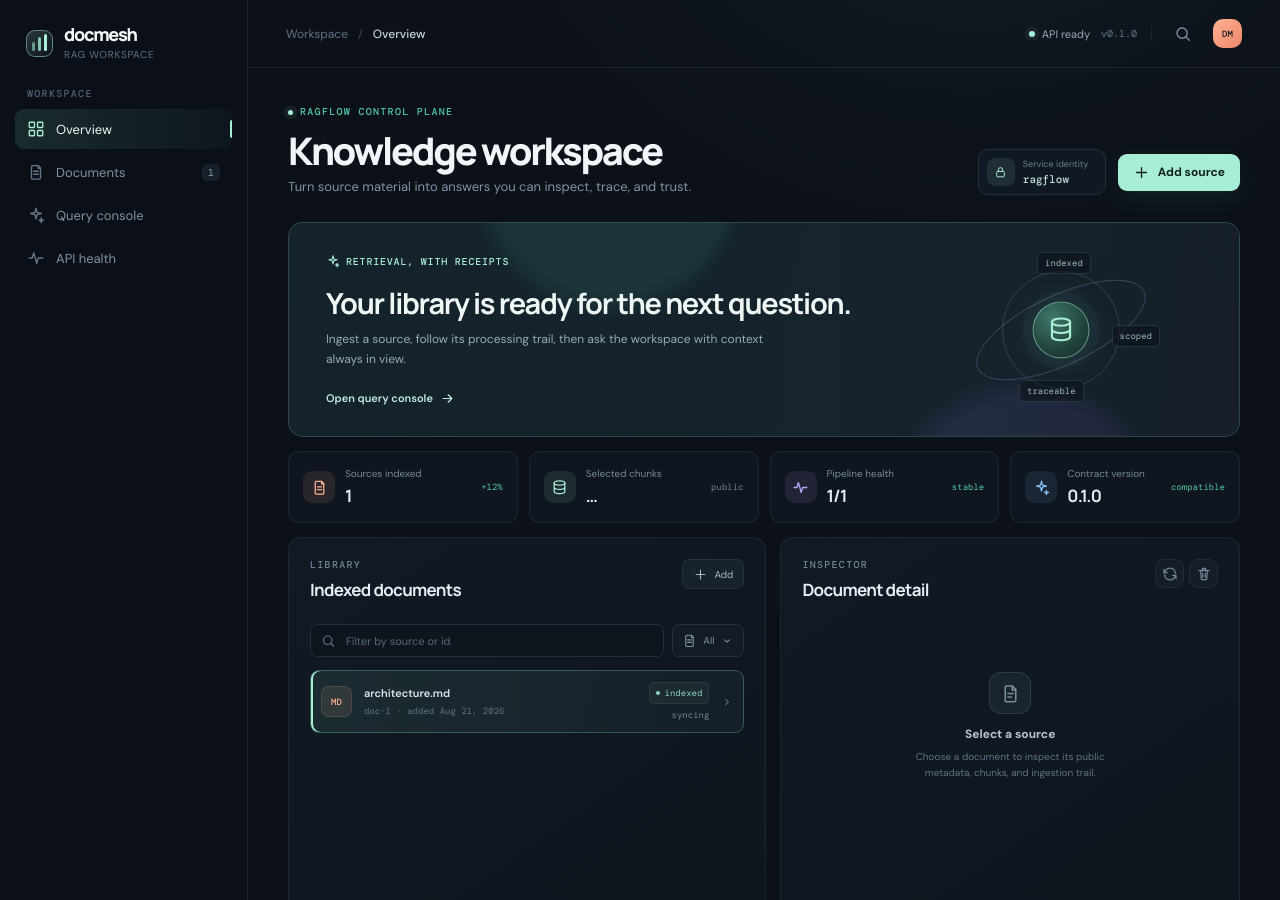
it: RAG Flow API-11 lifecycle capability › uses the ingestion job id for the final step status map
Expected: the text "architecture.md" is shown, [364,686,450,700]
Click the button "Add source".
click(1179, 172)  # box [1118,154,1240,190]
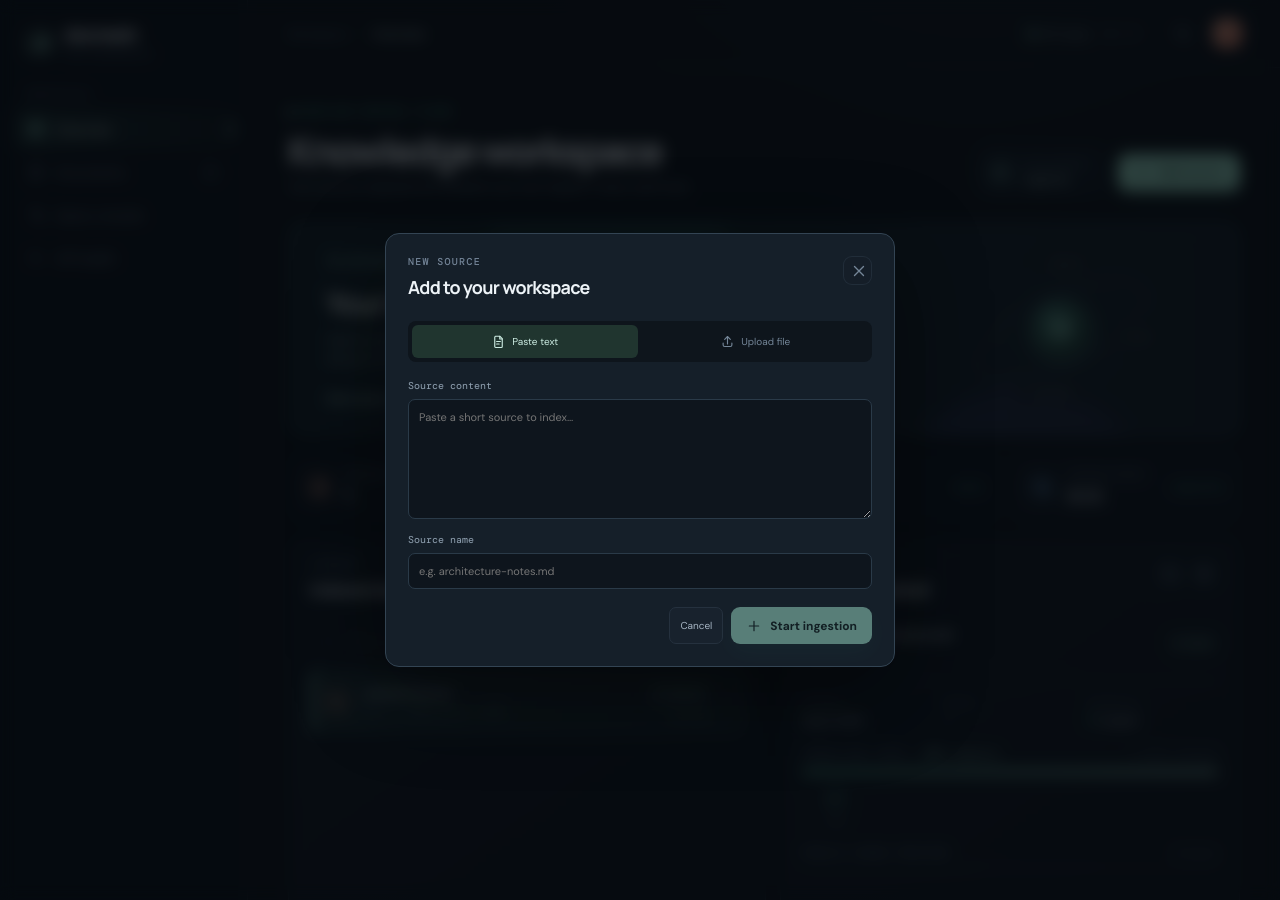
Type "New notes" into the text box labelled "Source content".
click(640, 459); type("New notes")  # box [408,399,872,519]
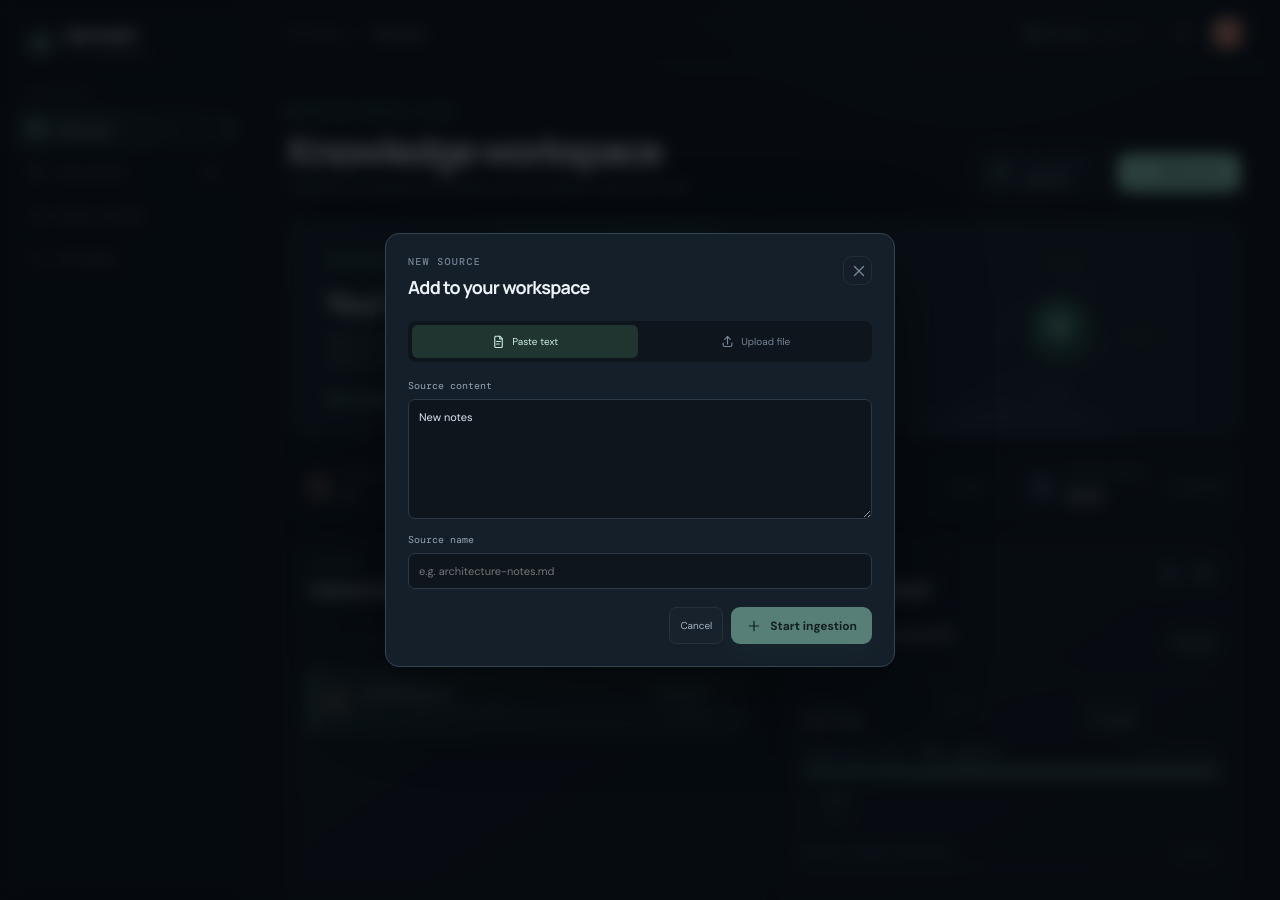
Type "notes.md" into the field labelled "Source name".
click(640, 571); type("notes.md")  # box [408,553,872,589]
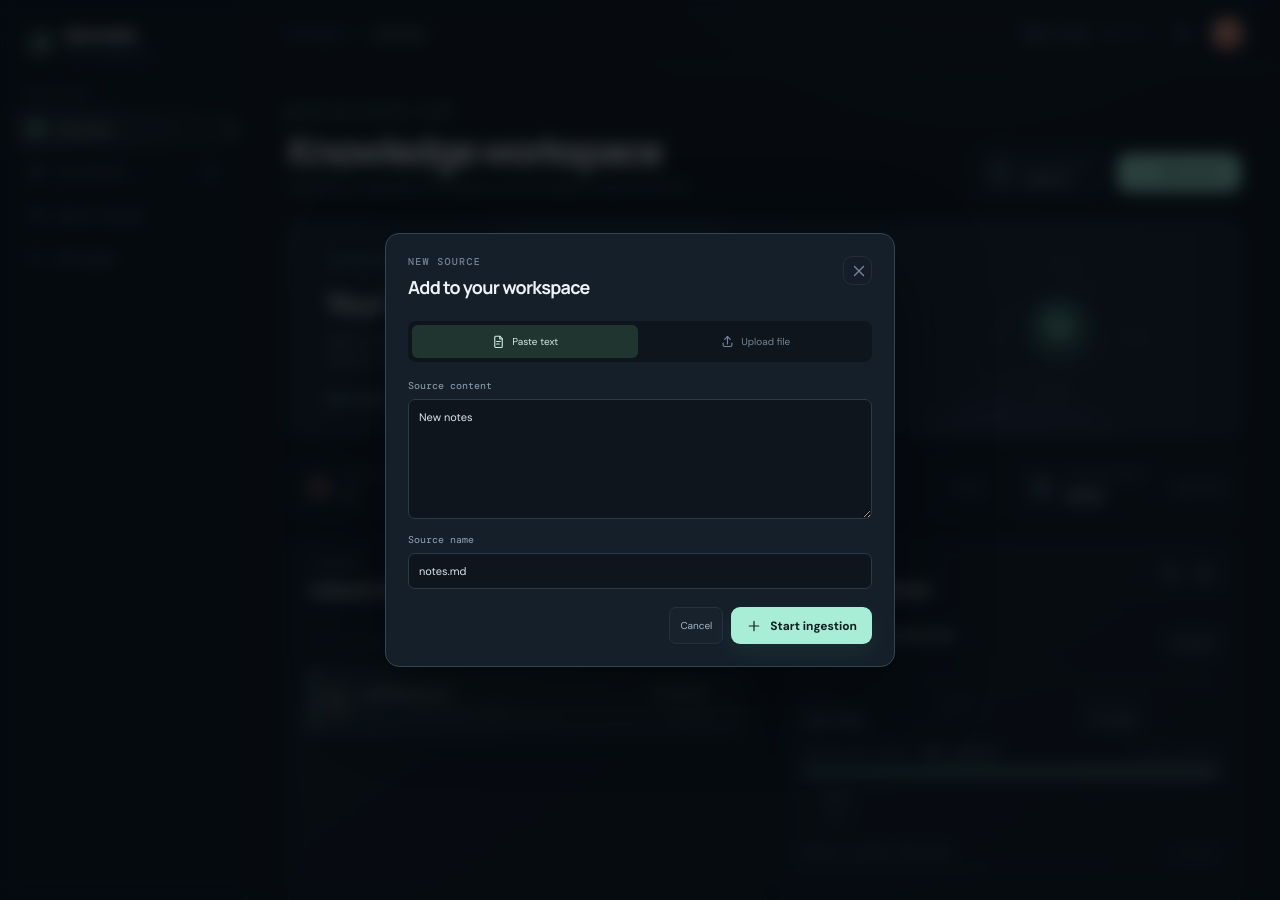
Submit the form, box [408,379,872,644]
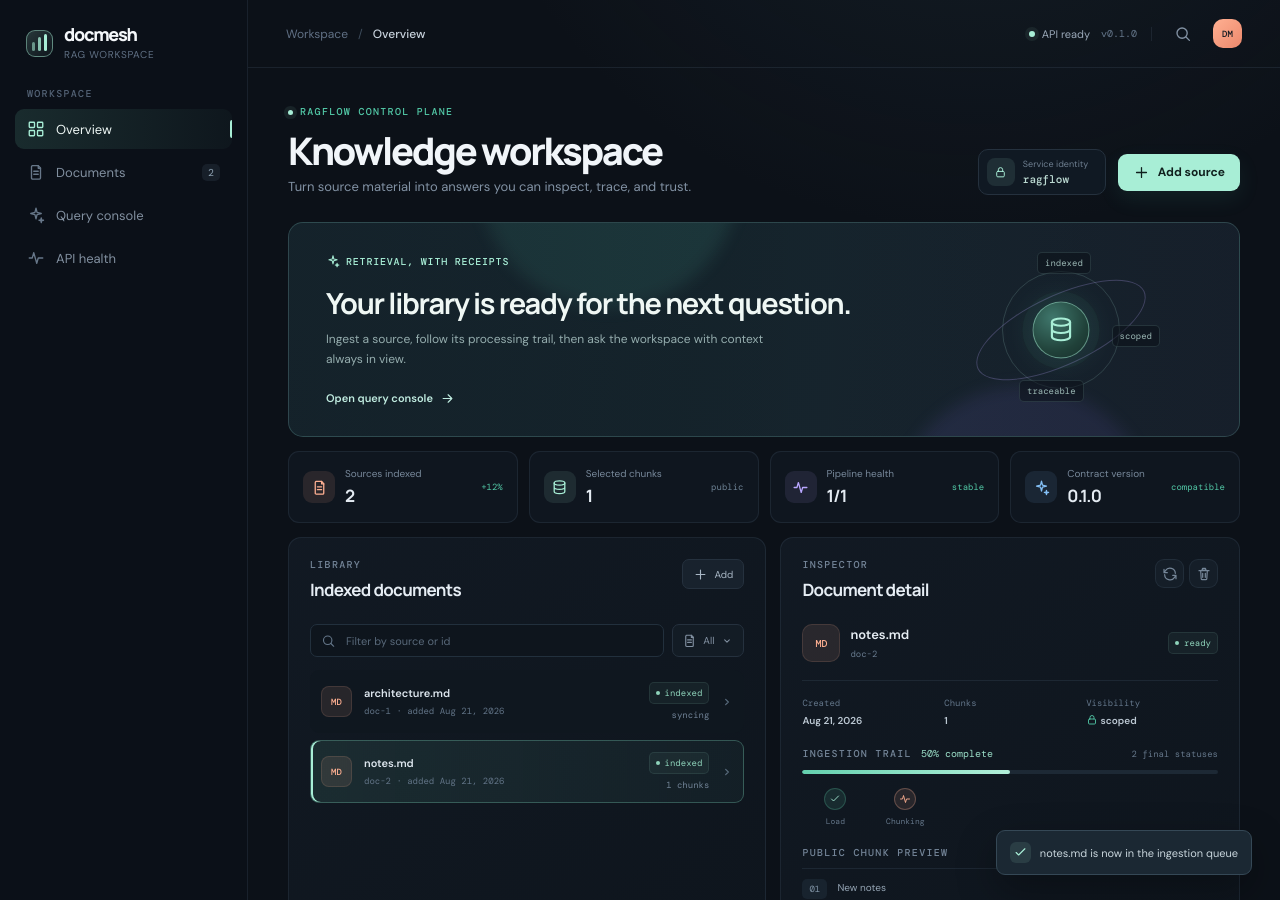
Expected: the text "2 final statuses" is shown, [1132,748,1218,760]
